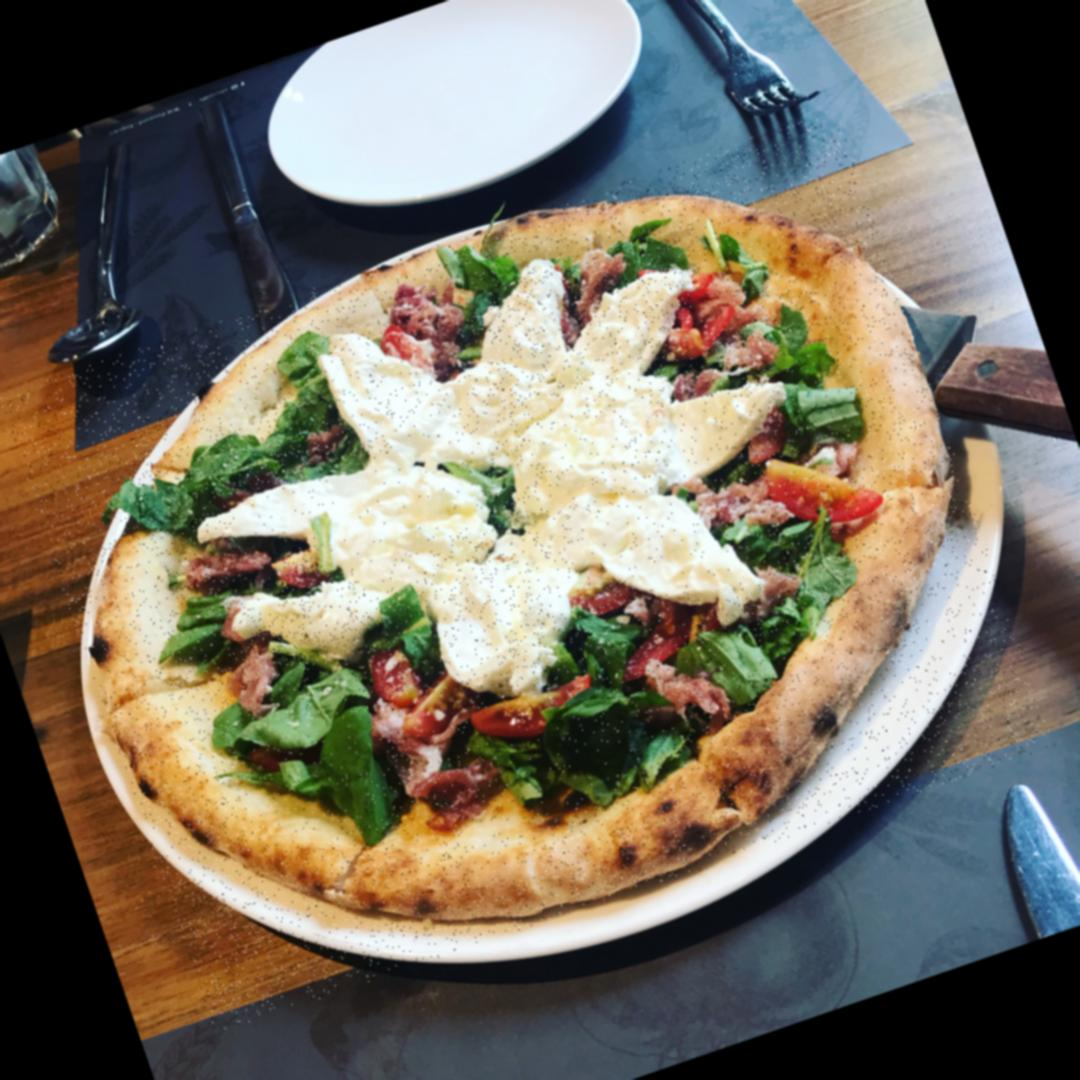Arugula: (234, 682, 402, 856), (492, 690, 678, 821), (128, 404, 324, 524), (766, 306, 864, 441), (691, 624, 778, 707), (448, 242, 519, 315), (613, 226, 682, 278)
Cheese: (227, 431, 486, 598), (530, 365, 772, 512), (566, 473, 746, 643), (424, 531, 576, 689), (455, 262, 592, 422), (319, 313, 460, 464), (572, 272, 696, 398), (242, 570, 380, 674)
Pizza: (0, 108, 1055, 1034)
Tomatoes: (766, 429, 888, 542), (469, 670, 607, 757), (608, 605, 732, 684), (391, 664, 472, 746), (633, 244, 722, 312), (678, 293, 744, 353), (378, 314, 435, 383), (366, 644, 424, 711), (270, 542, 334, 590), (571, 576, 642, 619)
